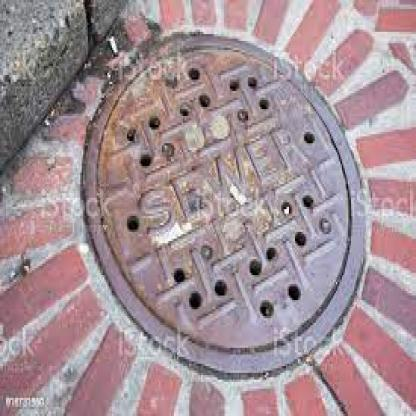closed manhole-not overflowing-: (79, 33, 373, 383)
